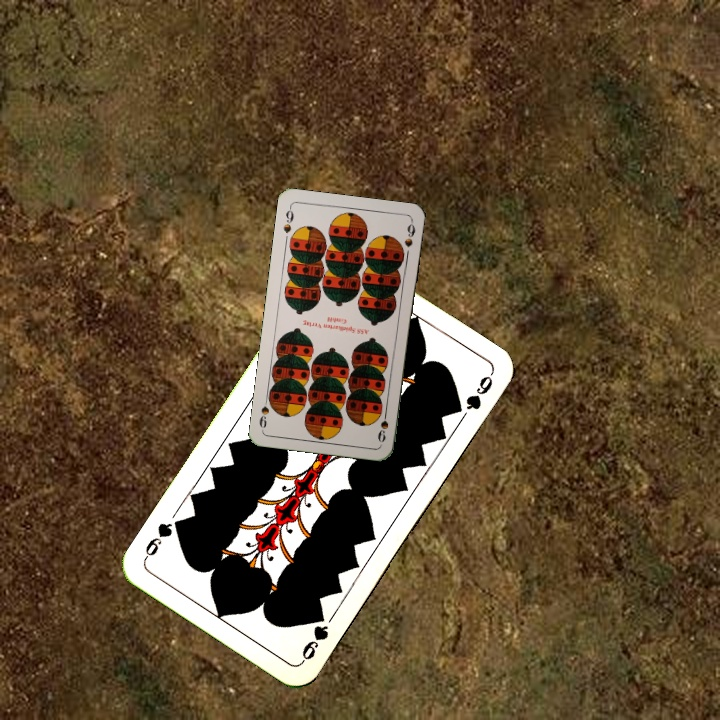G9: (297, 607, 332, 665)
S9: (374, 405, 391, 445), (279, 203, 296, 235)
